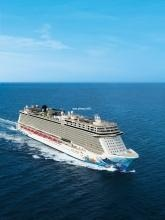youlun: (19, 98, 141, 173)
